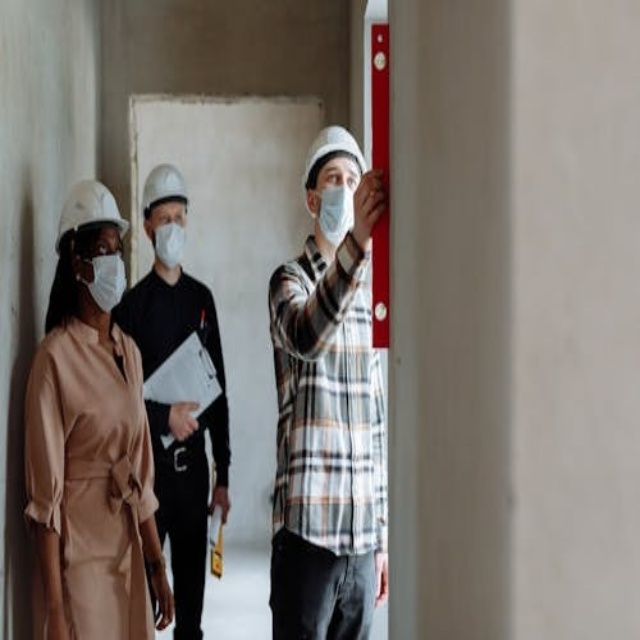Mascara: (79, 250, 128, 311), (315, 182, 355, 243), (152, 221, 186, 269)
Sin_gafas: (315, 161, 356, 190), (83, 233, 124, 258), (152, 204, 187, 225)
Sin_guantes: (352, 156, 387, 250), (141, 555, 178, 627), (167, 401, 201, 442), (372, 548, 389, 605), (208, 485, 231, 526)
